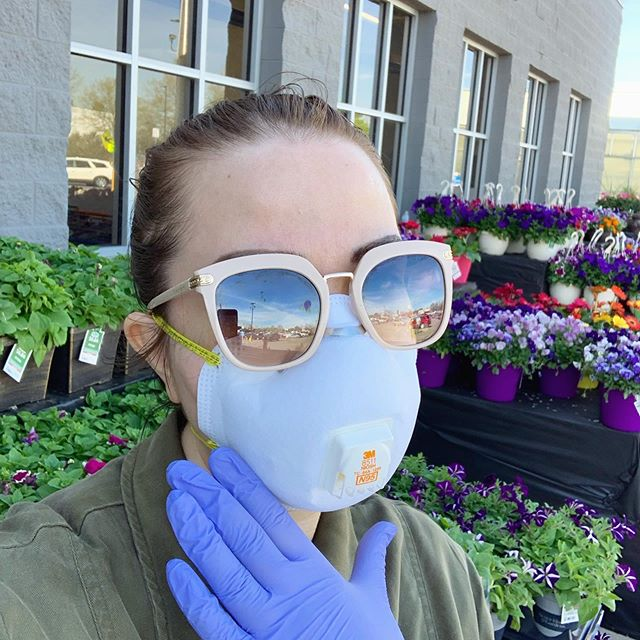n95: (169, 293, 431, 512)
